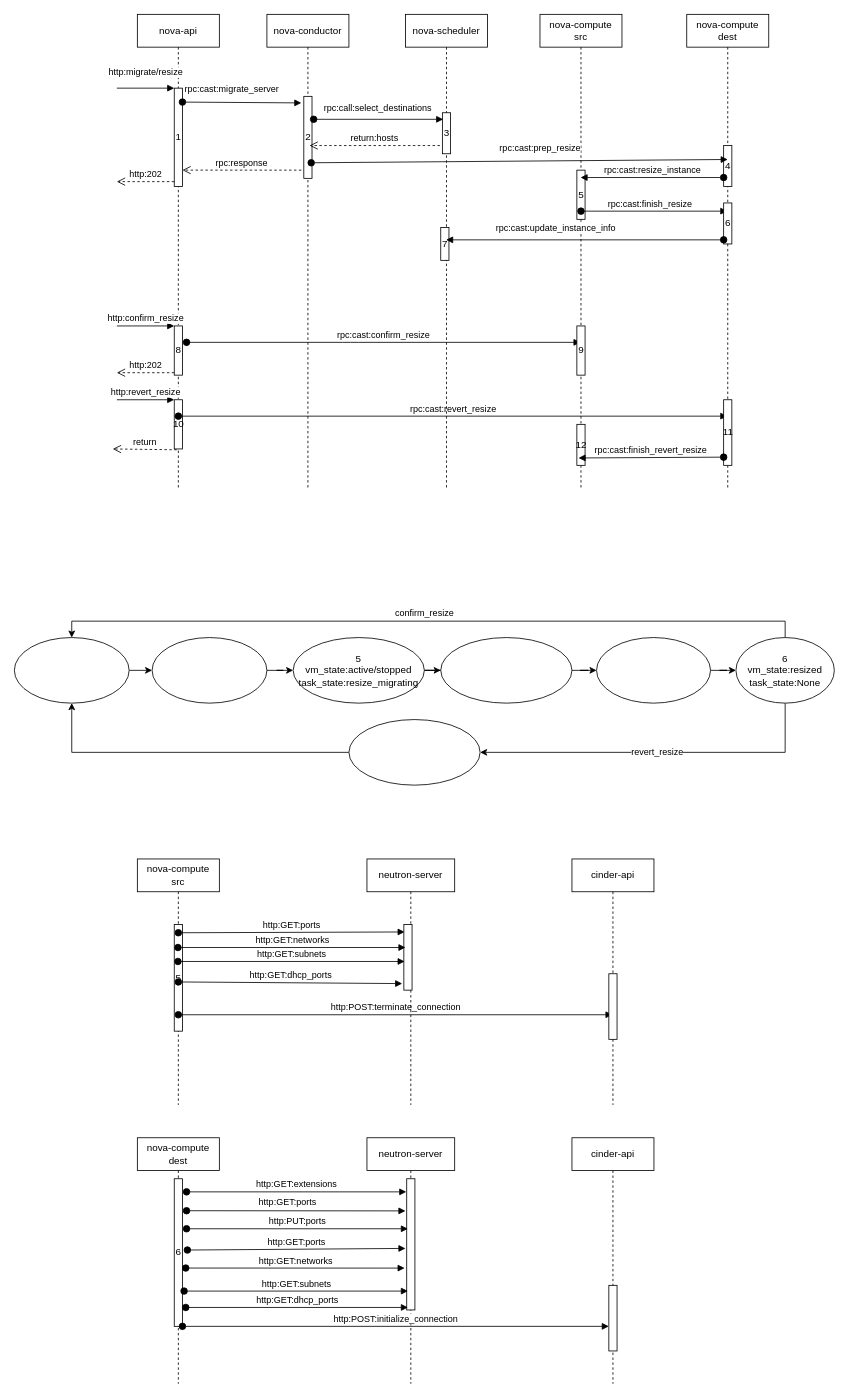
The diagram is 849 pixels wide and 1398 high, and some of its shapes have lost their labels. Each missing label, with the centre of its shape:
"0/9/12 vm_state:active/stopped task_state:None" goes at (71,670).
"1 vm_state:active/stopped task_state:resize_prep" goes at (209,670).
"10 vm_state:resized task_state:resize_revertng" goes at (414,752).
"5 vm_state:active/stopped task_state:resize_migrated" goes at (506,670).
"6 vm_state:active/stopped task_state:resize_finish" goes at (653,670).
